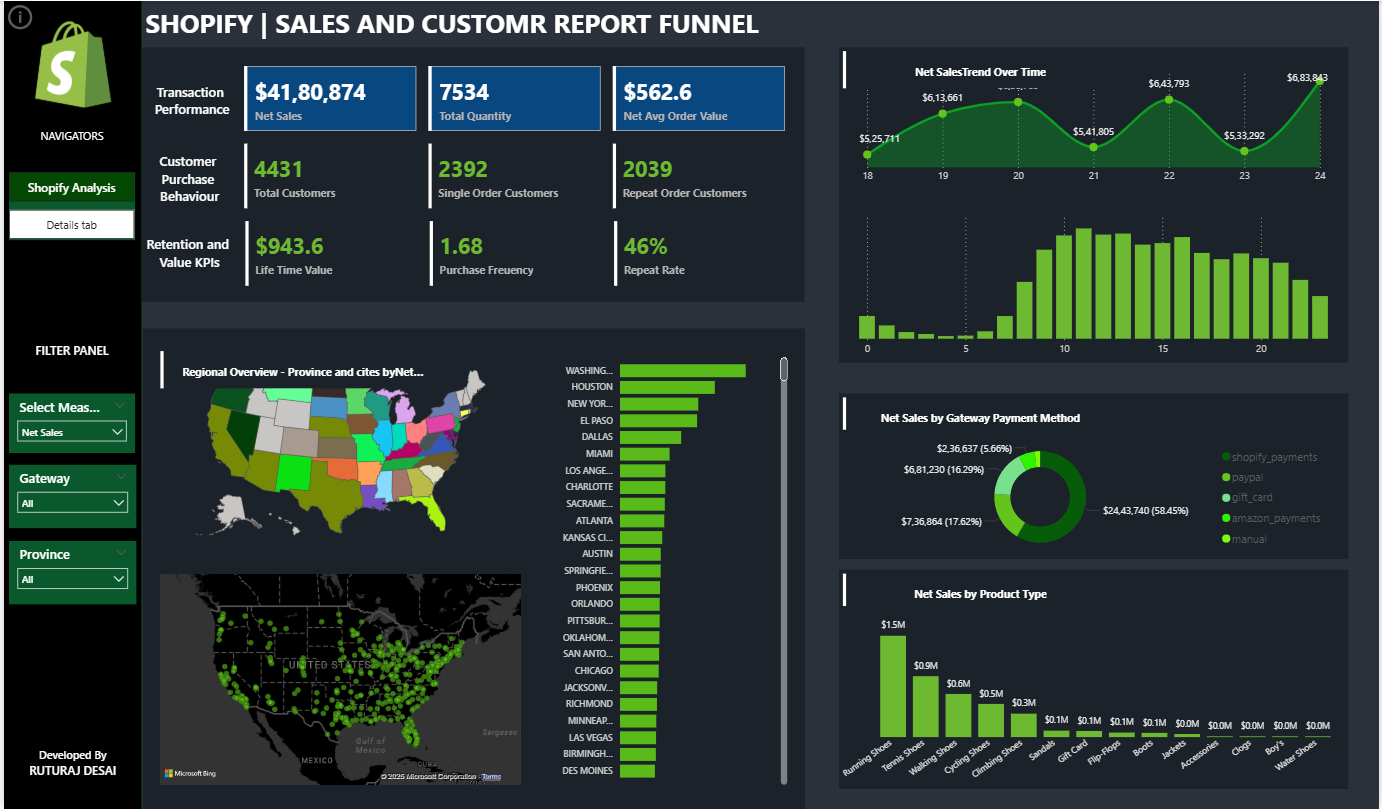

This screenshot's page, from the dashboard's own definition file:
{"tool":"powerbi","page":{"name":"Shopify Analysis","canvas":[1700,1000],"ordinal":0},"visuals":[{"type":"shape","box":[0,0,170,1000.5],"z":0},{"type":"textbox","box":[169.5,0,770.9,56.5],"z":1000},{"type":"shape","box":[169.5,56.5,820,315],"z":2000},{"type":"cardVisual","fields":{"Data":["shopify_sales.Net Sales","shopify_sales.Total Quantity","shopify_sales.Net Avg Order Value"]},"box":[291.6,75.4,680.3,90.5],"z":3000},{"type":"card","fields":{"Values":["shopify_sales.MeasureTransaction perf"]},"box":[170.9,78.8,122.3,87.1],"z":4000},{"type":"cardVisual","fields":{"Data":["shopify_sales.Total Customers","shopify_sales.Single Order Customers","shopify_sales.Repeat Order Customers"]},"box":[291.6,171.8,680.3,90.5],"z":5000},{"type":"card","fields":{"Values":["shopify_sales.Customer Purchase Behaviour"]},"box":[169.2,173.4,122.3,87.1],"z":6000},{"type":"cardVisual","fields":{"Data":["shopify_sales.Life Time Value","shopify_sales.Purchase Freuency","shopify_sales.Repeat Rate"]},"box":[293.2,268.1,680.3,90.5],"z":7000},{"type":"card","fields":{"Values":["shopify_sales.Retention and Value KPIs"]},"box":[169.2,268.1,122.3,87.1],"z":8000},{"type":"shape","box":[170.9,405.5,819.4,594.8],"z":9000},{"type":"shapeMap","fields":{"Value":["shopify_sales.Net Sales"],"Series":["shopify_sales.Billing Address Zip"],"Category":["shopify_sales.Billing Address Province"]},"box":[189.3,429,455.8,249.7],"z":10000},{"type":"slicer","fields":{"Values":["Select Measure.Select Measure"]},"box":[6.7,485.9,155.8,73.7],"z":11000},{"type":"map","fields":{"Category":["shopify_sales.Location"]},"box":[189.3,703.8,455.8,271.4],"z":12000},{"type":"clusteredBarChart","fields":{"Y":["shopify_sales.Net Sales"],"Category":["shopify_sales.CITY"]},"box":[673.6,429,299.9,546.2],"z":13000},{"type":"cardVisual","fields":{"Data":["shopify_sales.Map Title"]},"box":[189.3,429,350.2,57],"z":14000},{"type":"shape","box":[1032.2,57,630,390.4],"z":15000},{"type":"areaChart","fields":{"Y":["shopify_sales.Net Sales"],"Category":["shopify_sales.Invoice Date.Variation.Date Hierarchy.Day"]},"box":[1052.3,75.4,589.8,159.2],"z":16000},{"type":"columnChart","fields":{"Y":["shopify_sales.Net Sales"],"Category":["shopify_sales.Hour"]},"box":[1052.3,253,589.8,194.4],"z":17000},{"type":"cardVisual","fields":{"Data":["shopify_sales.Trend Title"]},"box":[1032.2,57,350.2,57],"z":18000},{"type":"shape","box":[1032.2,485.9,630,205],"z":19000},{"type":"donutChart","fields":{"Y":["shopify_sales.Net Sales"],"Category":["shopify_sales.Gateway"]},"box":[1052.3,536.2,589.8,154.2],"z":20000},{"type":"cardVisual","fields":{"Data":["shopify_sales.Gateway Title"]},"box":[1032.2,485.9,350.2,50.3],"z":21000},{"type":"shape","box":[1032.2,703.8,630,271.4],"z":22000},{"type":"columnChart","fields":{"Y":["shopify_sales.Net Sales"],"Category":["shopify_sales.Product Type"]},"box":[1032.2,747.3,630,227.9],"z":23000},{"type":"cardVisual","fields":{"Data":["shopify_sales.Product Title"]},"box":[1032.2,703.8,350.2,50.3],"z":24000},{"type":"image","box":[21.8,20.1,127.3,117.3],"z":25000},{"type":"slicer","fields":{"Values":["shopify_sales.Gateway"]},"box":[6.7,573.1,157.5,78.8],"z":26000},{"type":"slicer","fields":{"Values":["shopify_sales.Billing Address Province"]},"box":[6.7,668.6,157.5,78.8],"z":27000},{"type":"pageNavigator","box":[6.7,211.1,155.8,83.8],"z":28000},{"type":"actionButton","box":[0,0,100,40],"z":29000},{"type":"textbox","box":[6.7,152.5,155.8,36.9],"z":30000},{"type":"textbox","box":[6.7,417.2,155.8,30.2],"z":31000},{"type":"textbox","box":[6.7,918.2,157.5,57],"z":32000}]}

Visuals, with their boxes on the page's 1700x1000 design canvas (x1, y1, x2, y2). These are canvas units, not pixel positions in the 1382x809 screenshot, which may show the page scaled, cropped or inside an application window:
shape: {"left": 0, "top": 0, "right": 170, "bottom": 1000}
textbox: {"left": 170, "top": 0, "right": 940, "bottom": 56}
shape: {"left": 170, "top": 56, "right": 990, "bottom": 372}
cardVisual - shopify_sales.Net Sales x shopify_sales.Total Quantity: {"left": 292, "top": 75, "right": 972, "bottom": 166}
card - shopify_sales.MeasureTransaction perf: {"left": 171, "top": 79, "right": 293, "bottom": 166}
cardVisual - shopify_sales.Total Customers x shopify_sales.Single Order Customers: {"left": 292, "top": 172, "right": 972, "bottom": 262}
card - shopify_sales.Customer Purchase Behaviour: {"left": 169, "top": 173, "right": 292, "bottom": 260}
cardVisual - shopify_sales.Life Time Value x shopify_sales.Purchase Freuency: {"left": 293, "top": 268, "right": 974, "bottom": 359}
card - shopify_sales.Retention and Value KPIs: {"left": 169, "top": 268, "right": 292, "bottom": 355}
shape: {"left": 171, "top": 406, "right": 990, "bottom": 1000}
shapeMap - shopify_sales.Net Sales x shopify_sales.Billing Address Zip: {"left": 189, "top": 429, "right": 645, "bottom": 679}
slicer - Select Measure.Select Measure: {"left": 7, "top": 486, "right": 162, "bottom": 560}
map - shopify_sales.Location: {"left": 189, "top": 704, "right": 645, "bottom": 975}
clusteredBarChart - shopify_sales.Net Sales x shopify_sales.CITY: {"left": 674, "top": 429, "right": 974, "bottom": 975}
cardVisual - shopify_sales.Map Title: {"left": 189, "top": 429, "right": 540, "bottom": 486}
shape: {"left": 1032, "top": 57, "right": 1662, "bottom": 447}
areaChart - shopify_sales.Net Sales x shopify_sales.Invoice Date.Variation.Date Hierarchy.Day: {"left": 1052, "top": 75, "right": 1642, "bottom": 235}
columnChart - shopify_sales.Net Sales x shopify_sales.Hour: {"left": 1052, "top": 253, "right": 1642, "bottom": 447}
cardVisual - shopify_sales.Trend Title: {"left": 1032, "top": 57, "right": 1382, "bottom": 114}
shape: {"left": 1032, "top": 486, "right": 1662, "bottom": 691}
donutChart - shopify_sales.Net Sales x shopify_sales.Gateway: {"left": 1052, "top": 536, "right": 1642, "bottom": 690}
cardVisual - shopify_sales.Gateway Title: {"left": 1032, "top": 486, "right": 1382, "bottom": 536}
shape: {"left": 1032, "top": 704, "right": 1662, "bottom": 975}
columnChart - shopify_sales.Net Sales x shopify_sales.Product Type: {"left": 1032, "top": 747, "right": 1662, "bottom": 975}
cardVisual - shopify_sales.Product Title: {"left": 1032, "top": 704, "right": 1382, "bottom": 754}
image: {"left": 22, "top": 20, "right": 149, "bottom": 137}
slicer - shopify_sales.Gateway: {"left": 7, "top": 573, "right": 164, "bottom": 652}
slicer - shopify_sales.Billing Address Province: {"left": 7, "top": 669, "right": 164, "bottom": 747}
pageNavigator: {"left": 7, "top": 211, "right": 162, "bottom": 295}
actionButton: {"left": 0, "top": 0, "right": 100, "bottom": 40}
textbox: {"left": 7, "top": 152, "right": 162, "bottom": 189}
textbox: {"left": 7, "top": 417, "right": 162, "bottom": 447}
textbox: {"left": 7, "top": 918, "right": 164, "bottom": 975}
